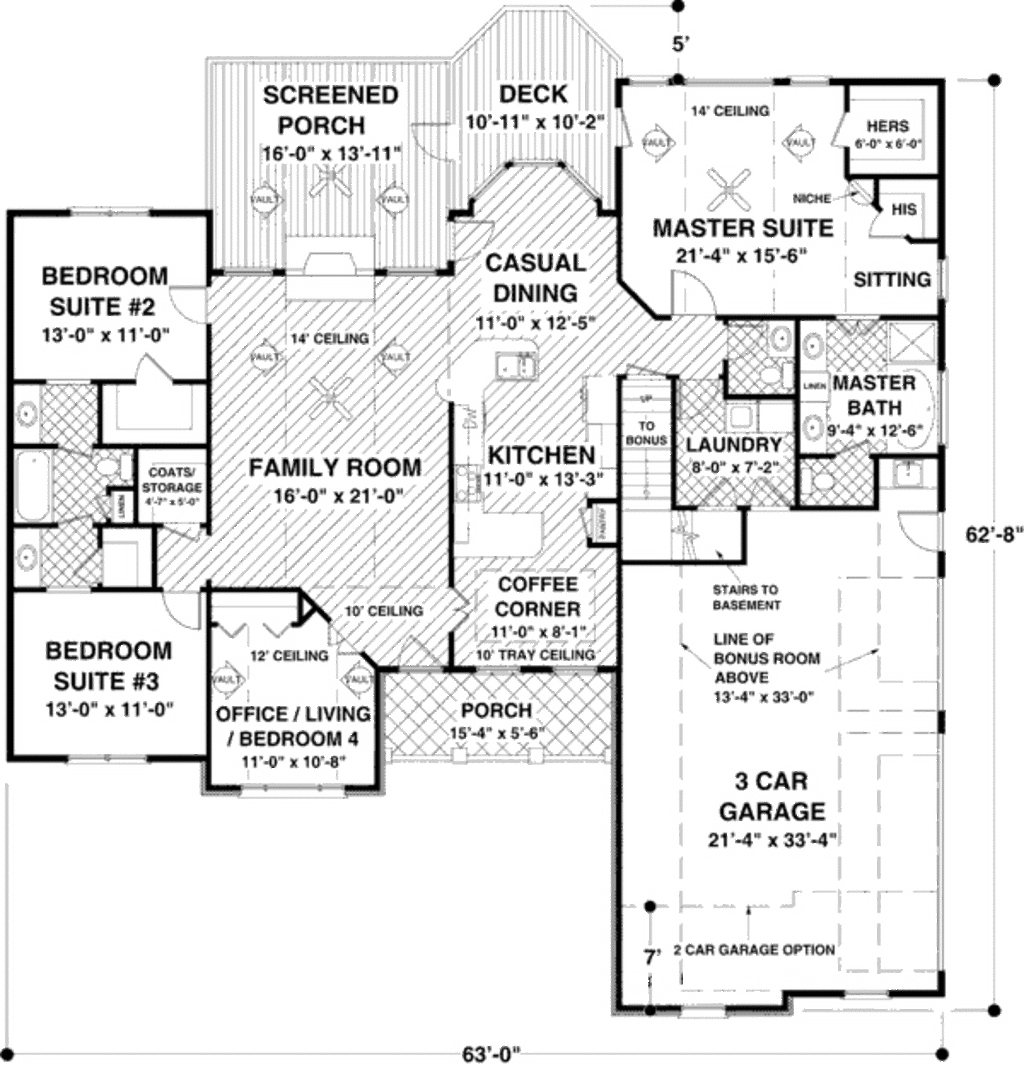door: (665, 259, 729, 322), (412, 115, 479, 172), (155, 277, 216, 328), (896, 505, 956, 556), (450, 215, 502, 261), (161, 589, 212, 635), (129, 349, 179, 387), (399, 636, 445, 676), (445, 582, 479, 636)
large_sink: (83, 441, 145, 485), (804, 459, 835, 503)
small_sink: (797, 325, 842, 454), (2, 377, 53, 443), (7, 530, 47, 595), (763, 312, 799, 364)
stairs: (607, 361, 745, 566)
tub: (881, 359, 943, 451), (7, 441, 56, 531)
window: (237, 774, 348, 803), (68, 749, 152, 774)
